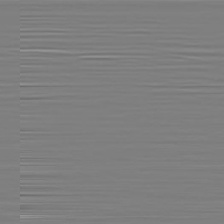cavities: (84, 76, 158, 127)
